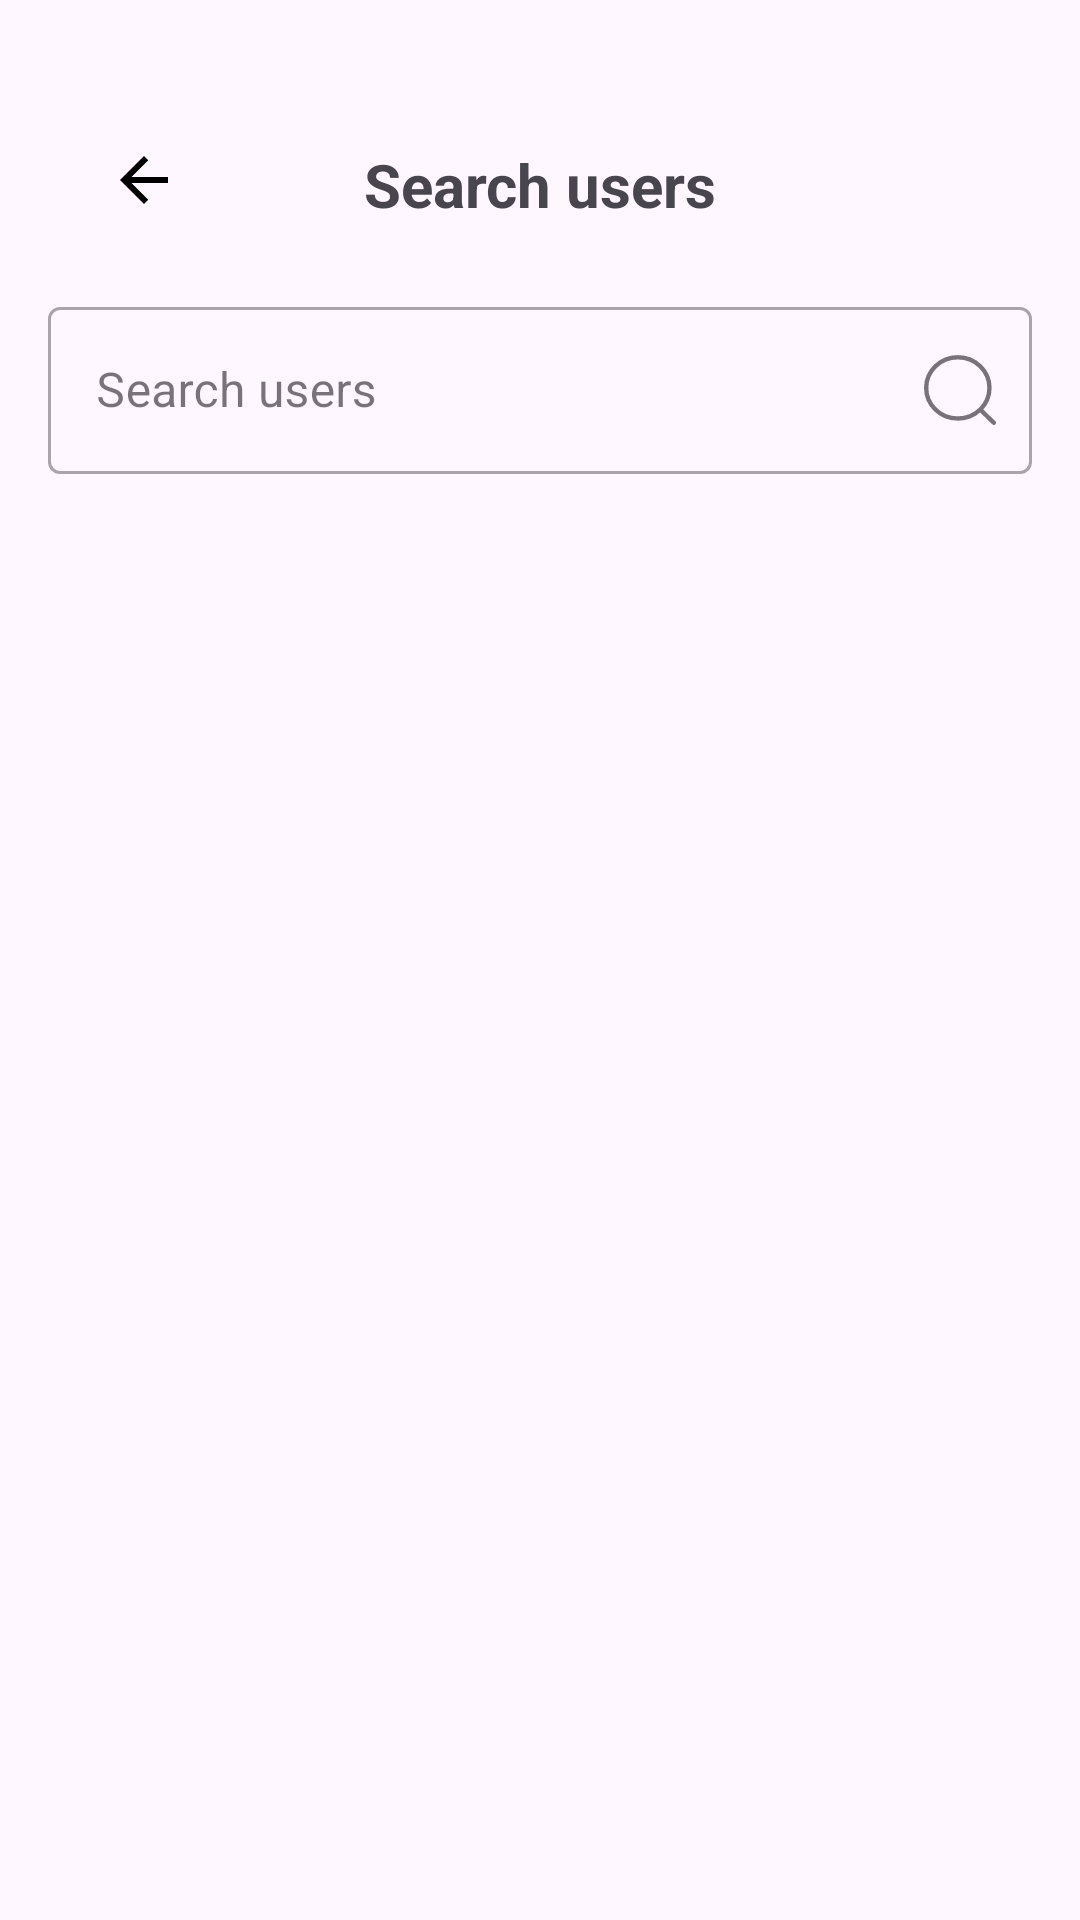

Point at icon controls on the screen. Image size 1080 x 1920, points as (x,y).
Back Button: (144,180)
